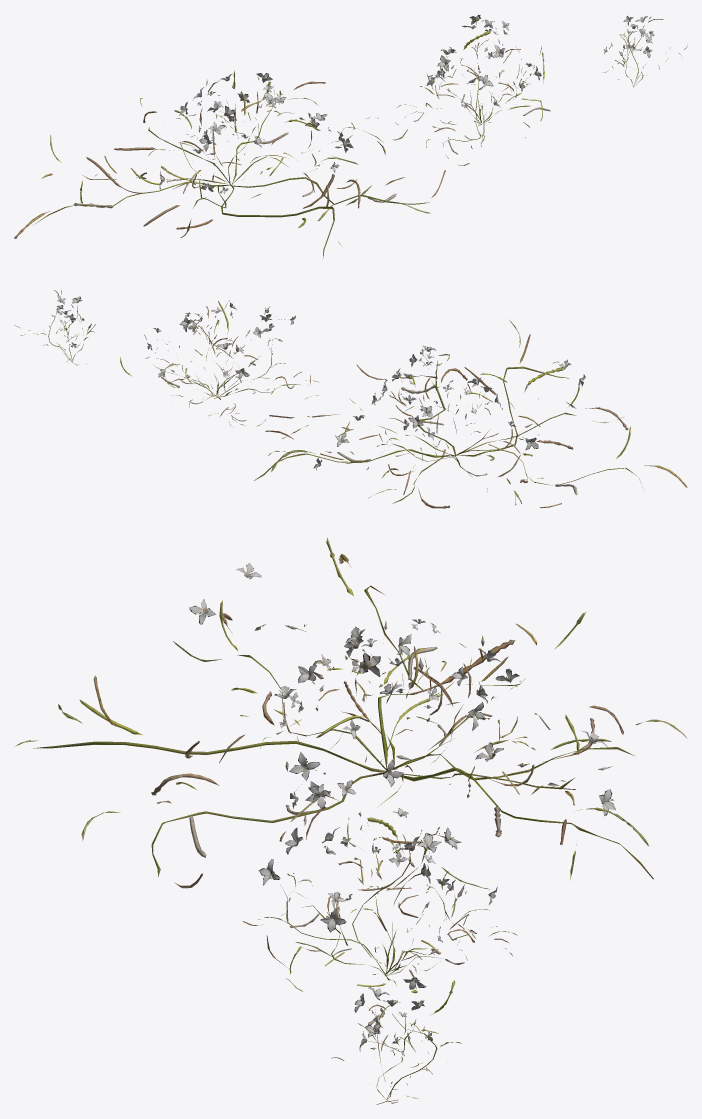
The model's file is flower_heliophila.glb.
The picture shows the model from 3 angles, top to bottom: view 1: azimuth 30°, elevation 25°; view 2: azimuth 150°, elevation 25°; view 3: azimuth 270°, elevation 25°; orthographic projection. The views are drawn at different scales.
Parts seen in each view (by area): view 1: flower_heliophila_large; view 2: flower_heliophila_large; view 3: flower_heliophila_large.
Part boxes in pixels (x1,y1,x2,y2): flower_heliophila_large: (14,14,687,257); flower_heliophila_large: (14,290,687,508); flower_heliophila_large: (15,537,686,1104).
Size of the model in its own units: 2.75 by 0.399 by 1.39.
Materials: 1 (1 with a texture image).
